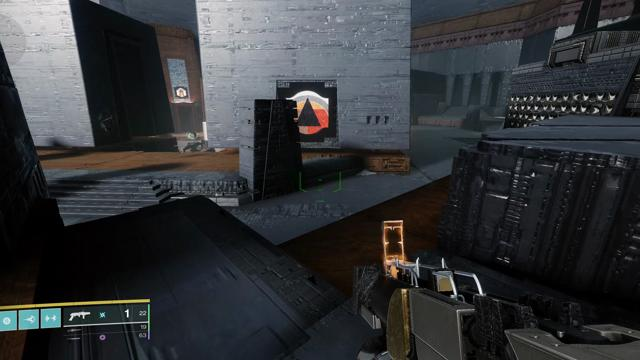pyramid: (286, 90, 329, 134)
